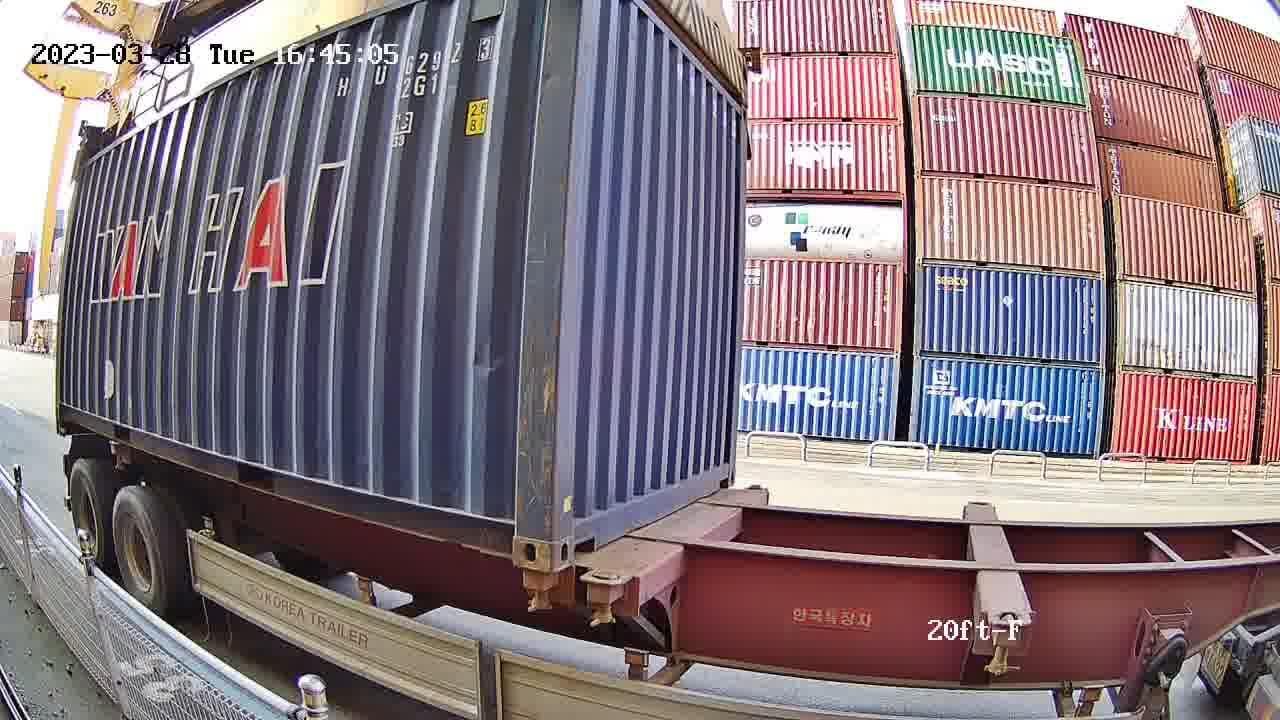Chassis: (589, 486, 766, 610)
Cone: (581, 569, 631, 628), (518, 568, 560, 613)
Hole_L: (553, 492, 600, 571)
Hole_R: (478, 493, 553, 573), (713, 449, 738, 493)
Tire: (112, 490, 167, 619), (70, 462, 109, 572)
